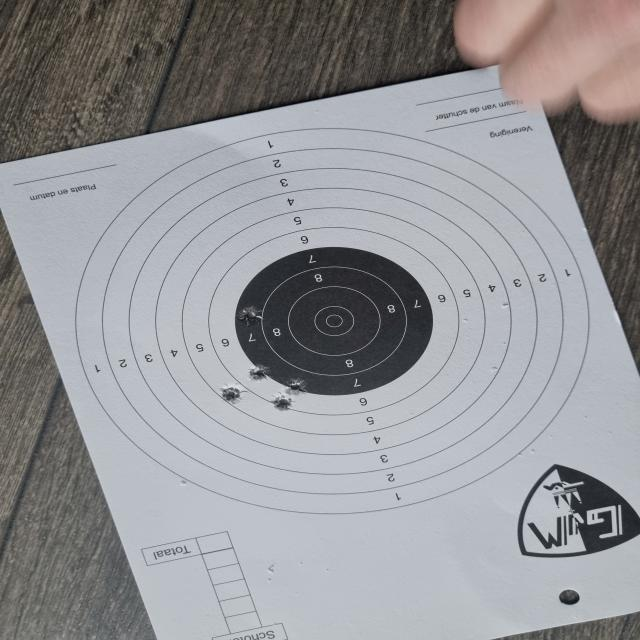5: (220, 383, 248, 405)
6: (272, 394, 294, 412)
7: (247, 363, 270, 383), (285, 378, 309, 396)
8: (237, 305, 263, 325)
Target: (75, 128, 590, 515)
black_contour: (234, 247, 433, 396)
